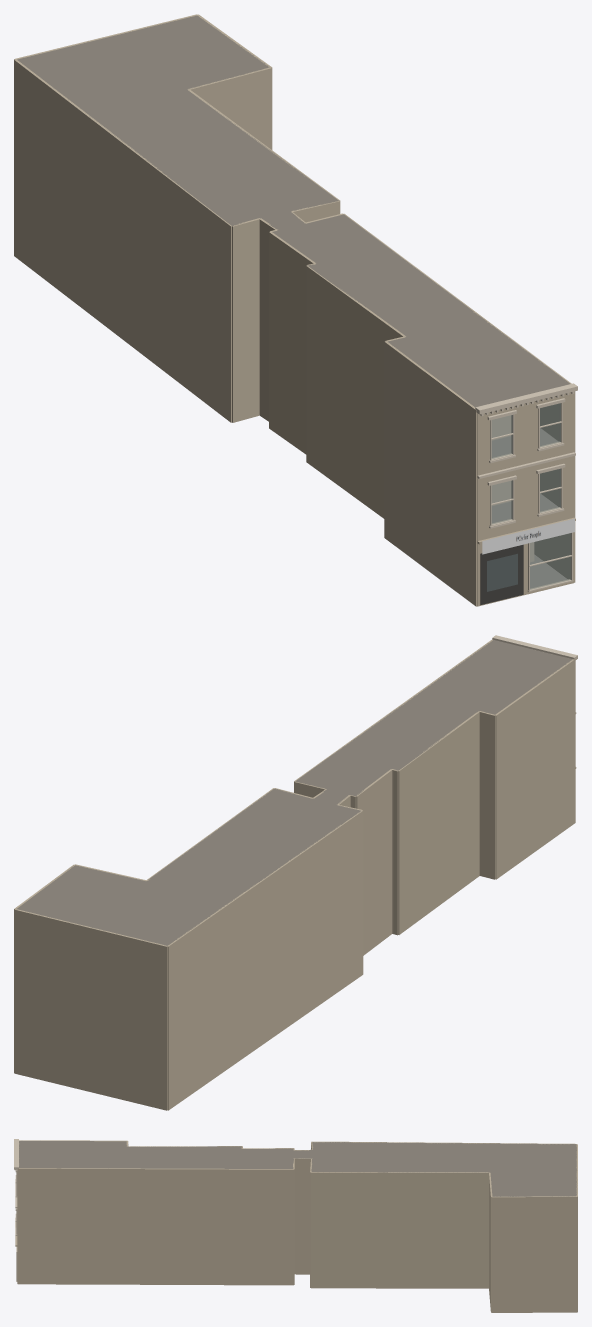
The picture shows the model from 3 angles, top to bottom: view 1: azimuth 30°, elevation 25°; view 2: azimuth 150°, elevation 25°; view 3: azimuth 270°, elevation 25°; orthographic projection. The views are drawn at different scales.
Visible parts, largest first — view 1: Shell, Roof, Facade floor 1, Facade floor 2, Facade floor 0, Sign, Cornice, Floor 2, Floor 1, Floor 0; view 2: Shell, Roof; view 3: Shell, Roof.
Boxes of the visible parts, <box> form: Shell: <box>14,14,575,606</box>; Roof: <box>17,15,569,407</box>; Facade floor 1: <box>477,452,575,540</box>; Facade floor 2: <box>477,392,574,475</box>; Facade floor 0: <box>477,517,575,606</box>; Sign: <box>482,518,574,554</box>; Cornice: <box>475,383,577,416</box>; Floor 2: <box>491,415,558,457</box>; Floor 1: <box>491,481,558,523</box>; Floor 0: <box>530,542,567,588</box>; Shell: <box>14,639,575,1110</box>; Roof: <box>16,640,572,945</box>; Shell: <box>17,1140,577,1312</box>; Roof: <box>19,1141,576,1196</box>.
Bounding box in the file's own units: 11.43 × 10.92 × 47.74.
Materials: 7 (1 with a texture image).
